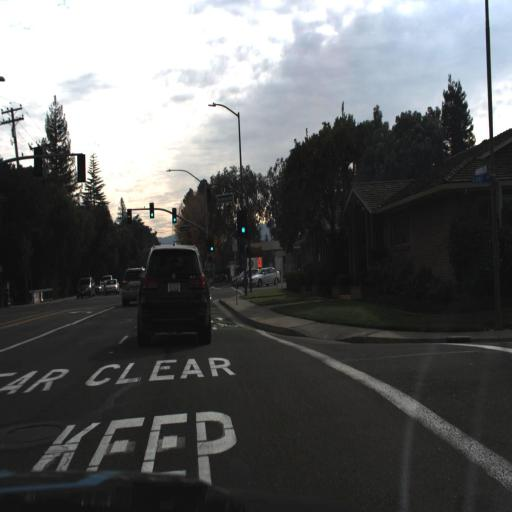car: (136, 241, 211, 346), (119, 265, 149, 311), (244, 264, 281, 290), (76, 275, 95, 301), (103, 276, 118, 295)
trafficLight-Green: (236, 210, 246, 240), (149, 203, 155, 219), (171, 207, 177, 223), (210, 237, 215, 253)
trafficLight-GreenLeft: (125, 207, 131, 226)
